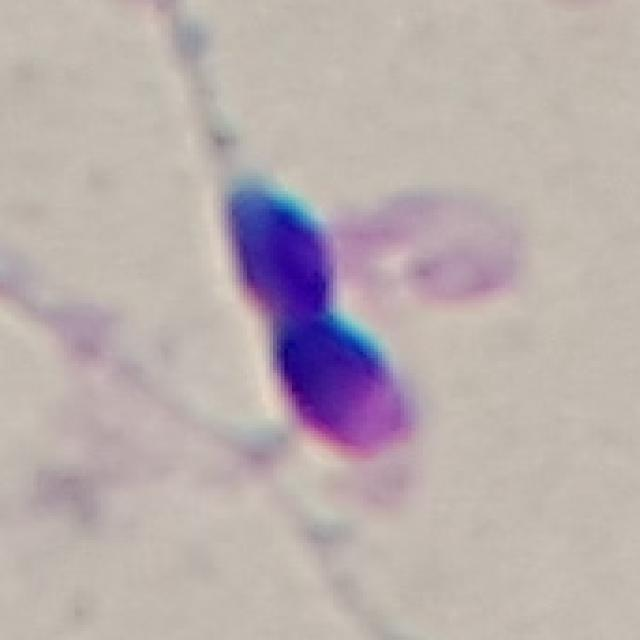abnormal sperm: (159, 27, 434, 479)
